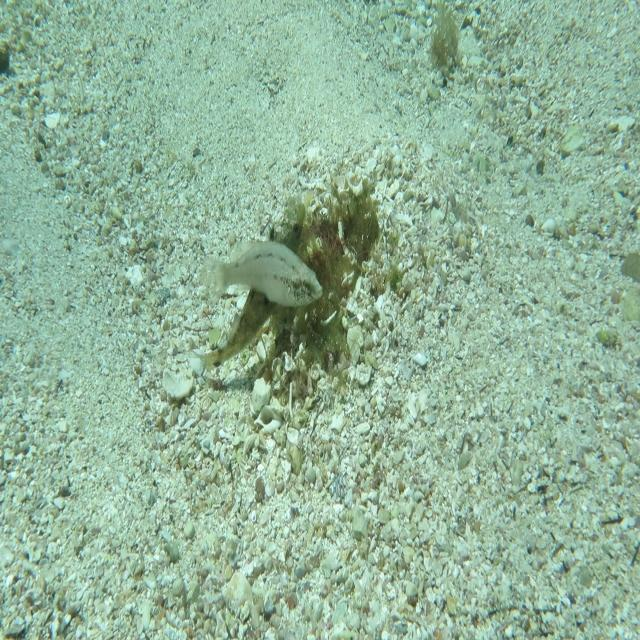FAN: (181, 202, 306, 378)
core_nest: (314, 198, 373, 255)
female: (204, 233, 324, 307)
nest: (253, 162, 397, 402)
